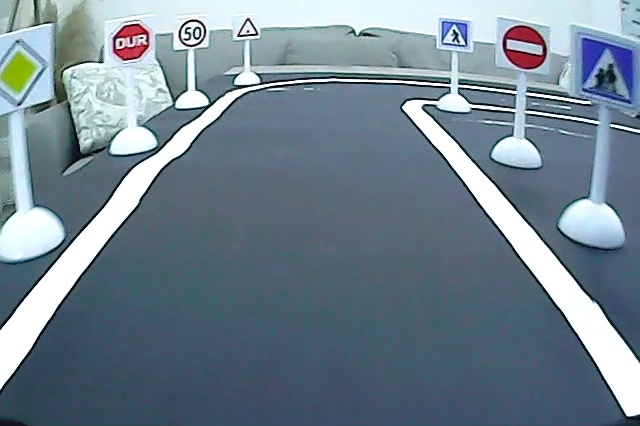do not enter: (500, 23, 551, 73)
green light: (238, 16, 259, 40)
pedestrian crossing: (438, 18, 469, 47)
school crossing: (577, 33, 635, 107)
speed limit 50: (179, 17, 207, 47)
stop sign: (109, 18, 154, 66)
